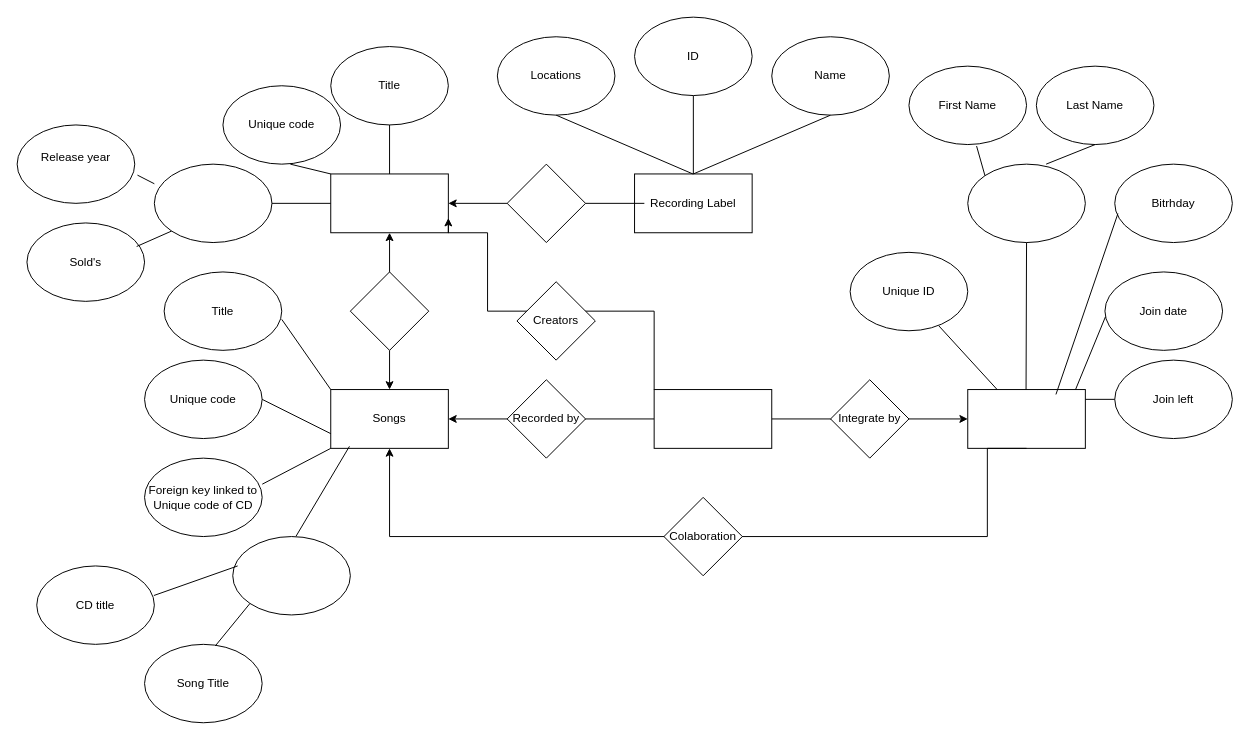
The diagram is 1250 pixels wide and 740 high, and some of its shapes have lost their labels. The shapes that lost their labels are listed below. From the top down, each one's centre as x and y in pixels, then its label:
[212,203]: Release year and sold
[389,203]: CD
[546,203]: Produced
[1026,203]: Names
[389,310]: Recorded
[712,418]: Musical Group
[1026,418]: Artists
[291,575]: end-of-the-year rating
